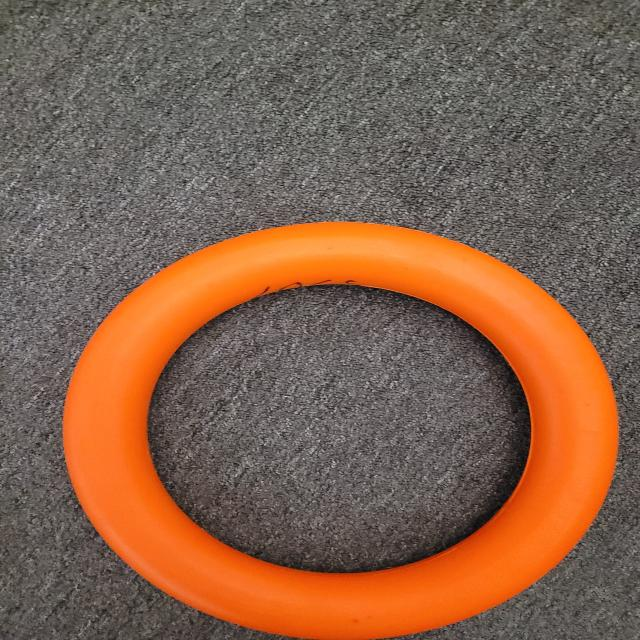note: (38, 206, 640, 640)
